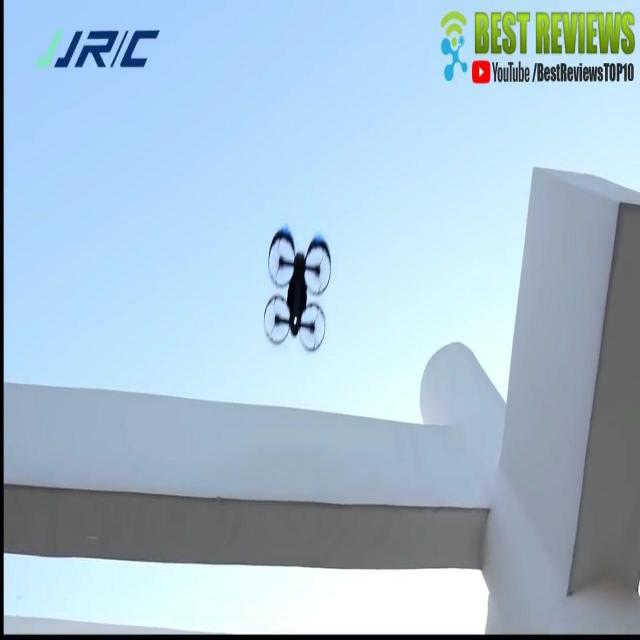UAV: (263, 224, 331, 346)
